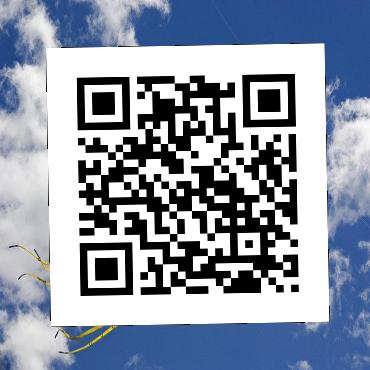qr_code: (46, 43, 329, 326)
